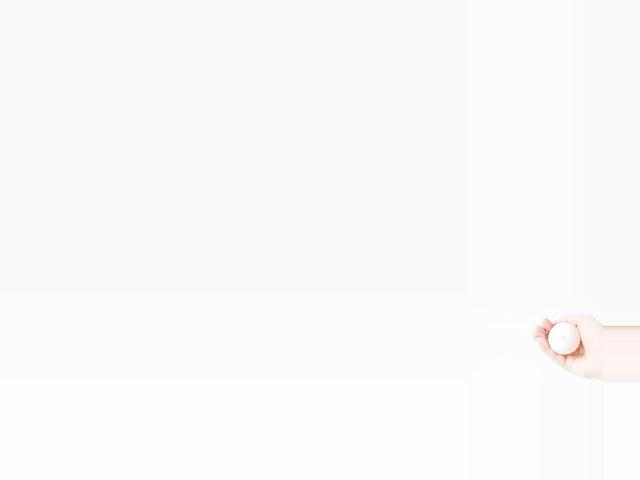egg: (547, 323, 579, 354)
